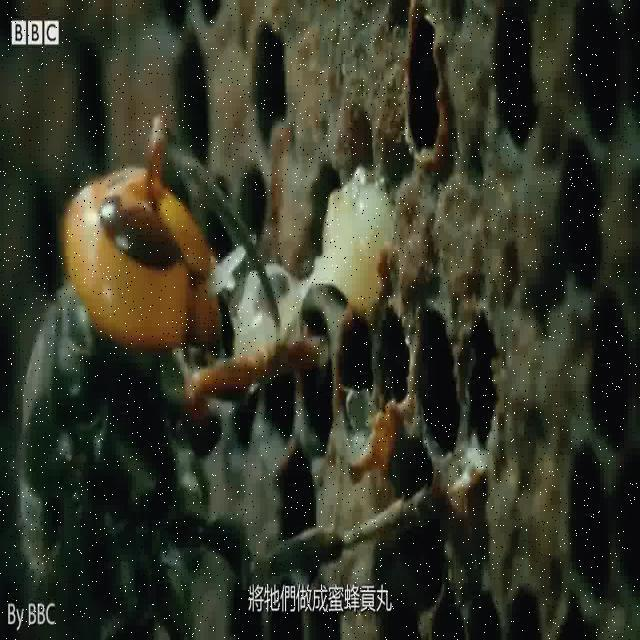Wasp: (10, 102, 436, 570)
